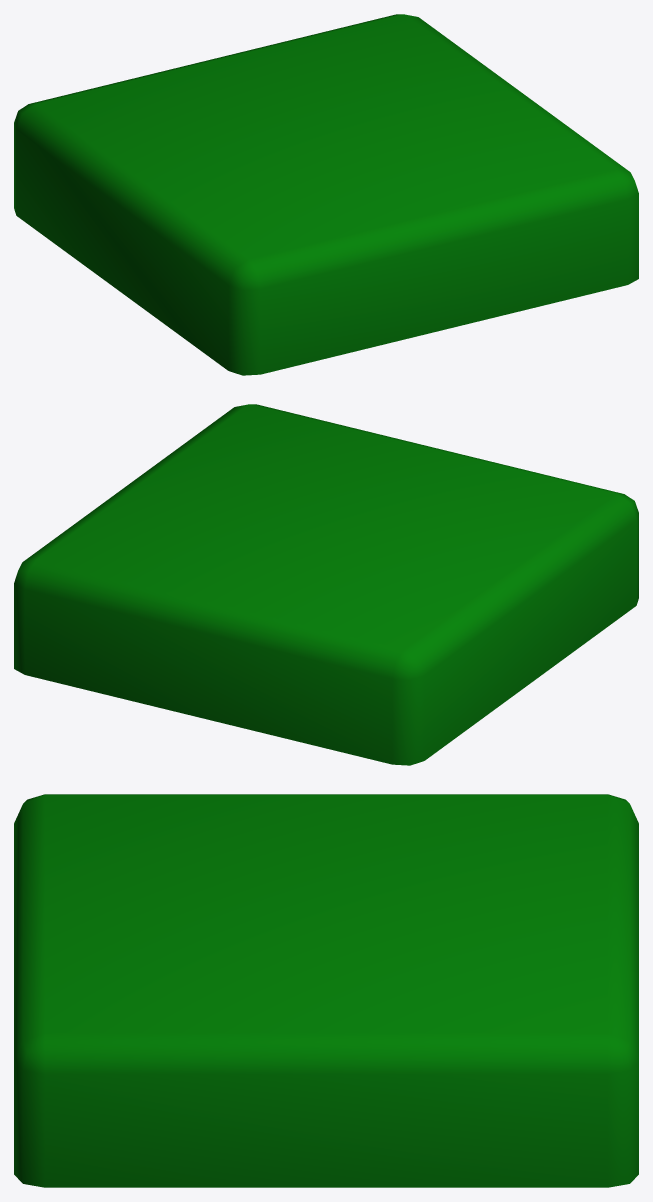
The model's file is 3D_Tile_Top_01v02.fbx.
The picture shows the model from 3 angles, top to bottom: view 1: azimuth 30°, elevation 25°; view 2: azimuth 150°, elevation 25°; view 3: azimuth 270°, elevation 25°; orthographic projection. The views are drawn at different scales.
Visible parts, largest first — view 1: 3D_Tile_Top_01v02; view 2: 3D_Tile_Top_01v02; view 3: 3D_Tile_Top_01v02.
Part boxes in pixels (box(x1,y1,x2,y2)): 3D_Tile_Top_01v02: box(14, 14, 638, 375); 3D_Tile_Top_01v02: box(14, 404, 638, 765); 3D_Tile_Top_01v02: box(14, 794, 638, 1187).
Bounding box in the file's own units: 200 × 50 × 200.
